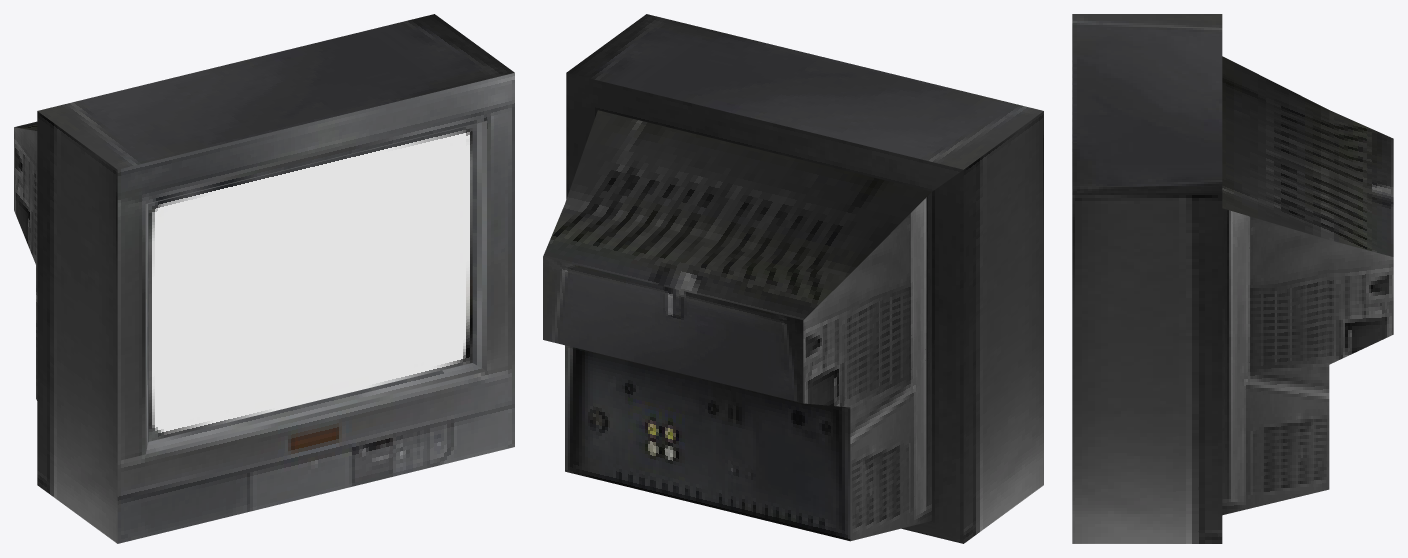
Rendered from psx_crt_tv.glb.
The picture shows the model from 3 angles, left to right: view 1: azimuth 30°, elevation 25°; view 2: azimuth 150°, elevation 25°; view 3: azimuth 270°, elevation 25°; orthographic projection. The views are drawn at different scales.
Parts seen in each view (by area): view 1: TVCRT; view 2: TVCRT; view 3: TVCRT.
Part boxes in pixels (box(x1,y1,x2,y2)): TVCRT: box(14, 14, 514, 543); TVCRT: box(543, 14, 1043, 543); TVCRT: box(1072, 14, 1393, 543).
Size of the model in its own units: 0.6 by 0.54 by 0.45.
Materials: 1 (1 with a texture image).
